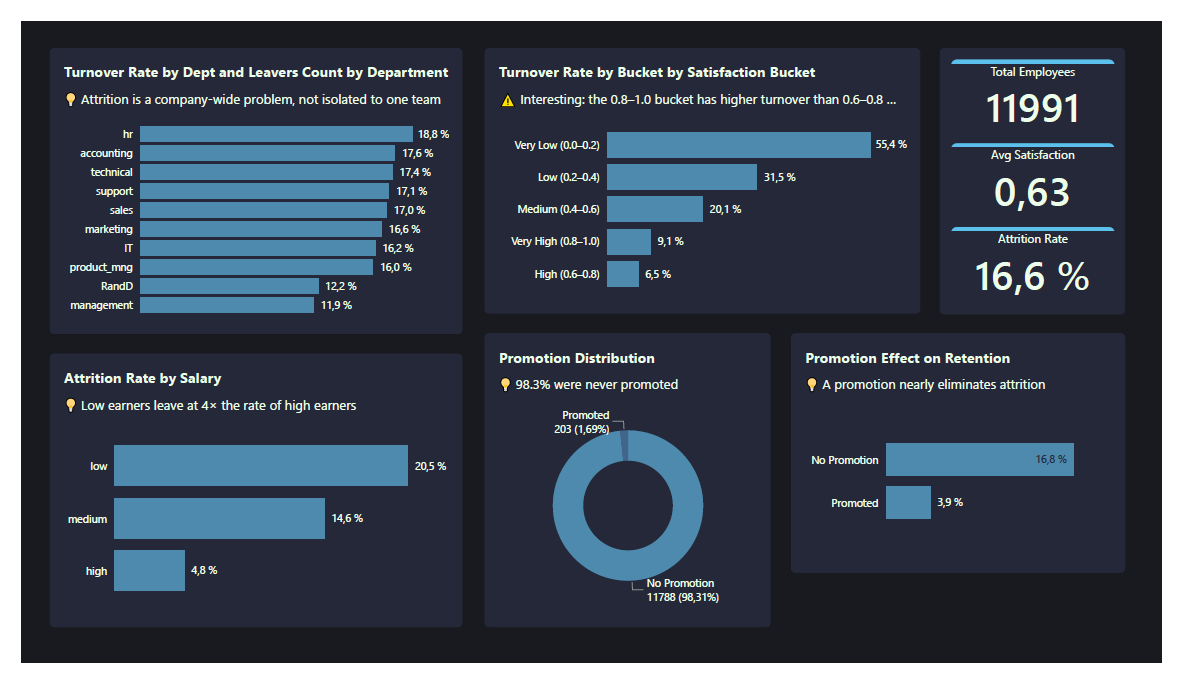

What the dashboard file says about the page in this screenshot:
{"tool":"powerbi","page":{"name":"Turnover Analysis","canvas":[1280,720],"ordinal":1},"visuals":[{"type":"clusteredBarChart","title":"Turnover Rate by Dept and Leavers Count by Department","fields":{"Y":["salifort_complete_report.Turnover Rate by Dept"],"Category":["salifort_complete_report.department"]},"box":[31.9,29.5,463.3,321.7],"z":0},{"type":"clusteredBarChart","title":"Attrition Rate by Salary","fields":{"Category":["salifort_complete_report.salary"],"Y":["salifort_complete_report.Attrition Rate"]},"box":[31.9,372.9,463.3,306.7],"z":1},{"type":"clusteredBarChart","fields":{"Category":["salifort_complete_report.Satisfaction Bucket"],"Y":["salifort_complete_report.Turnover Rate by Bucket"]},"box":[520.2,29.5,488.3,298.3],"z":2},{"type":"clusteredBarChart","title":"Promotion Effect on Retention","fields":{"Category":["salifort_complete_report.Promotion Status"],"Y":["salifort_complete_report.Attrition Rate"]},"box":[864.3,350,374.3,268.6],"z":3},{"type":"donutChart","title":"Promotion Distribution","fields":{"Category":["salifort_complete_report.Promotion Status"],"Y":["salifort_complete_report.Total Employees Count"]},"box":[520,350,321.4,330],"z":6},{"type":"cardVisual","fields":{"Data":["salifort_complete_report.Total Employees","salifort_complete_report.Avg Satisfaction","salifort_complete_report.Attrition Rate"]},"box":[1031.4,30,207.1,298.6],"z":9}]}

Visuals, with their boxes in screenshot pixels (x1, y1, x2, y2), scaled from the page's 1280x720 canvas onto the 1182x682 screenshot:
"Turnover Rate by Dept and Leavers Count by Department" clusteredBarChart: [left=29, top=28, right=457, bottom=333]
"Attrition Rate by Salary" clusteredBarChart: [left=29, top=353, right=457, bottom=644]
clusteredBarChart - salifort_complete_report.Satisfaction Bucket x salifort_complete_report.Turnover Rate by Bucket: [left=480, top=28, right=931, bottom=310]
"Promotion Effect on Retention" clusteredBarChart: [left=798, top=332, right=1144, bottom=586]
"Promotion Distribution" donutChart: [left=480, top=332, right=777, bottom=644]
cardVisual - salifort_complete_report.Total Employees x salifort_complete_report.Avg Satisfaction: [left=952, top=28, right=1144, bottom=311]
